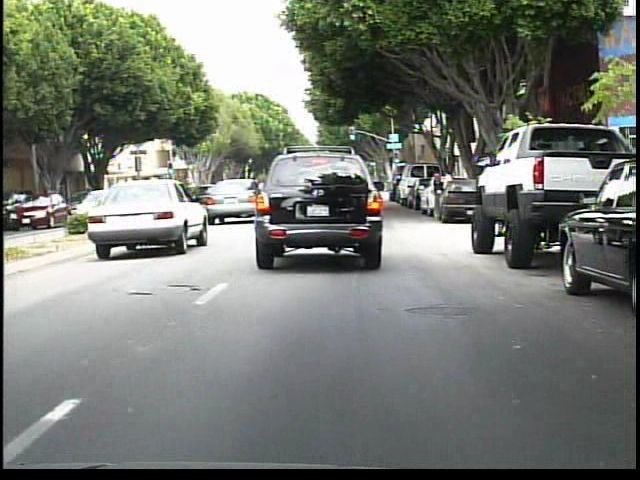person: (438, 166, 455, 215), (431, 174, 447, 222)
